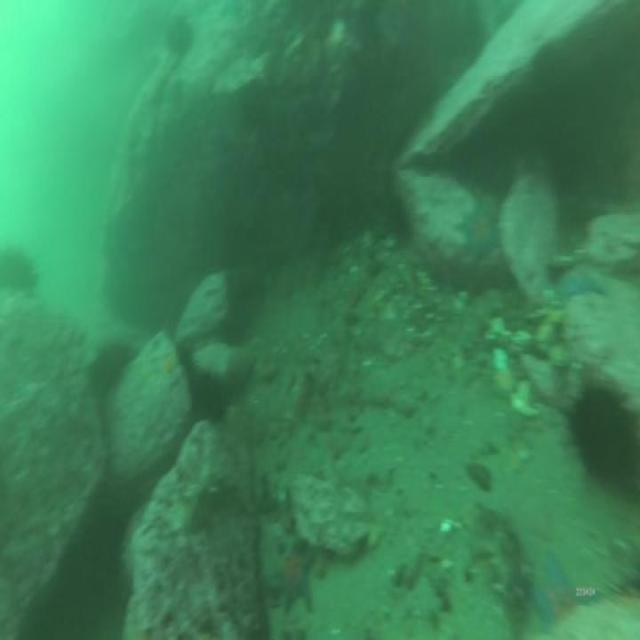echinus: (569, 389, 631, 480), (90, 338, 130, 395), (2, 248, 36, 294), (194, 380, 226, 420), (165, 13, 193, 55)
starfish: (533, 558, 575, 619), (457, 202, 498, 258), (274, 548, 311, 600), (560, 266, 598, 298), (155, 354, 184, 386)
